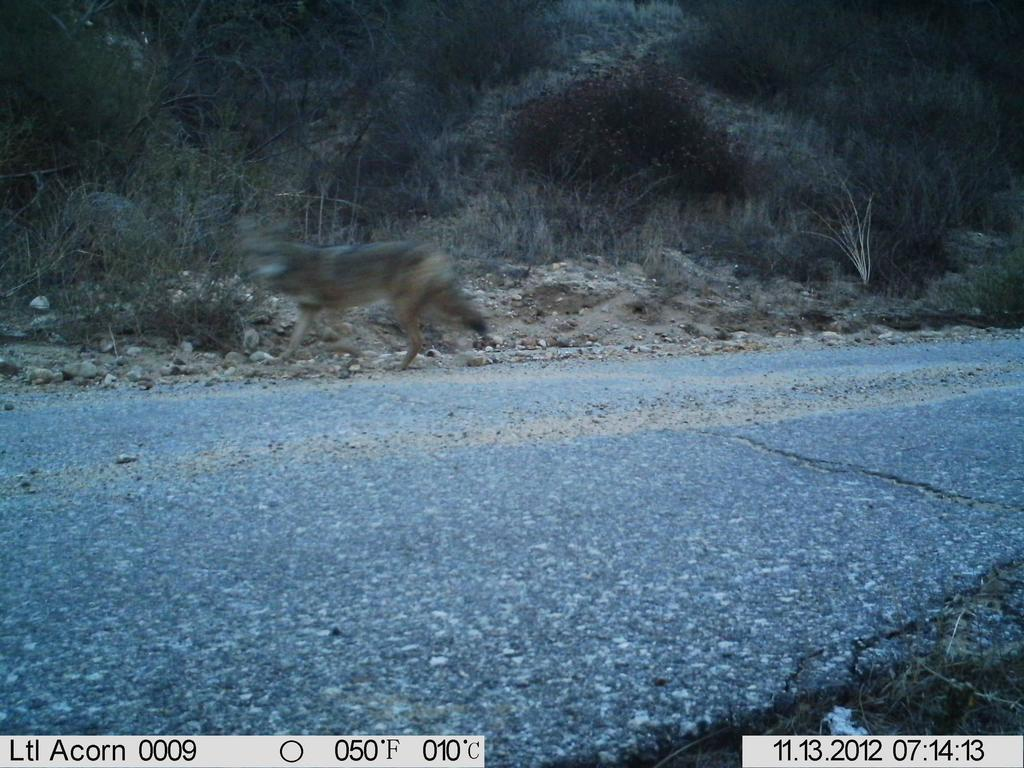coyote: (231, 213, 505, 382)
